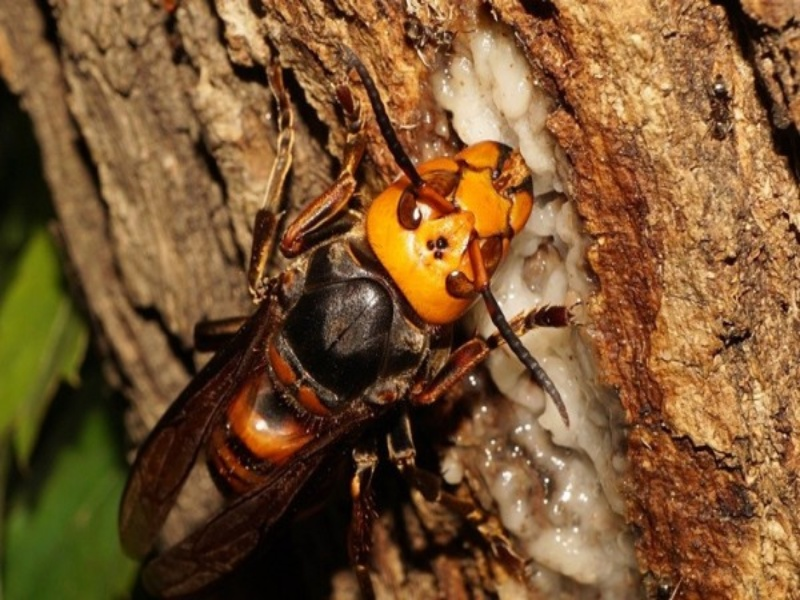asian_giant_hornet: (200, 138, 539, 512)
